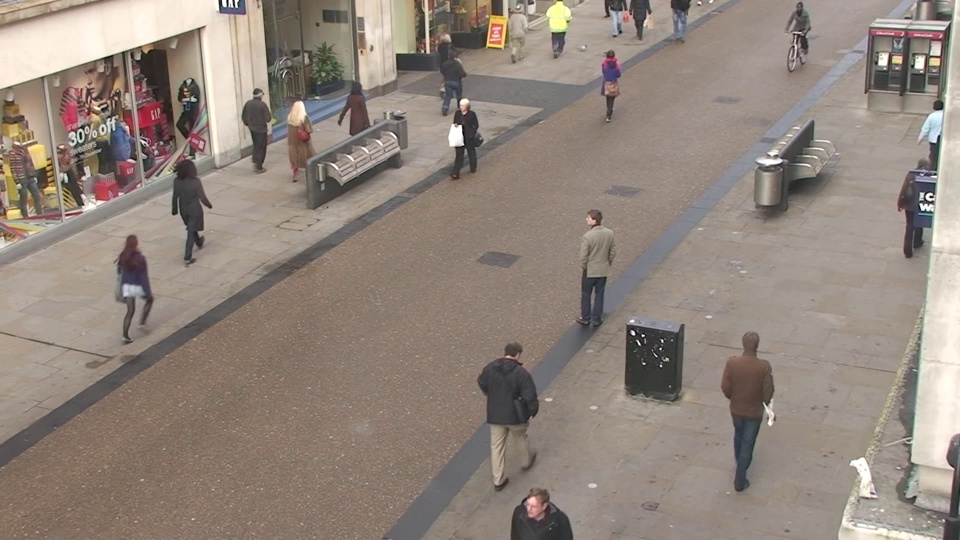pedestrian: (721, 324, 774, 474), (488, 331, 537, 483), (111, 229, 164, 352), (575, 203, 613, 324), (910, 95, 956, 190), (169, 158, 211, 262), (507, 476, 566, 540), (284, 96, 318, 185), (243, 83, 276, 168), (451, 94, 482, 184), (341, 78, 372, 163), (439, 47, 466, 123), (597, 47, 623, 124), (431, 31, 457, 103), (507, 1, 529, 65)
